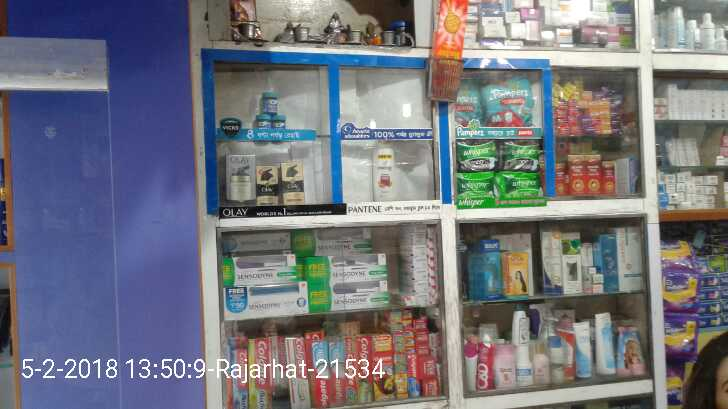vicks: (254, 88, 288, 134)
